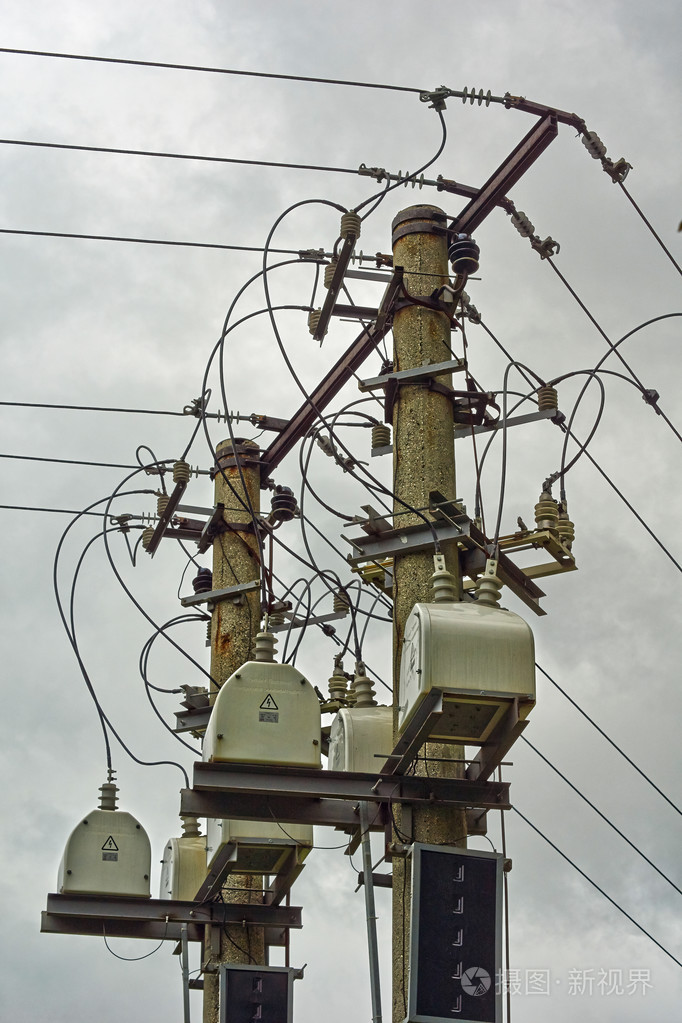insulator: (580, 128, 608, 160), (509, 208, 535, 239), (459, 86, 493, 106), (393, 170, 428, 189), (215, 408, 240, 426)
